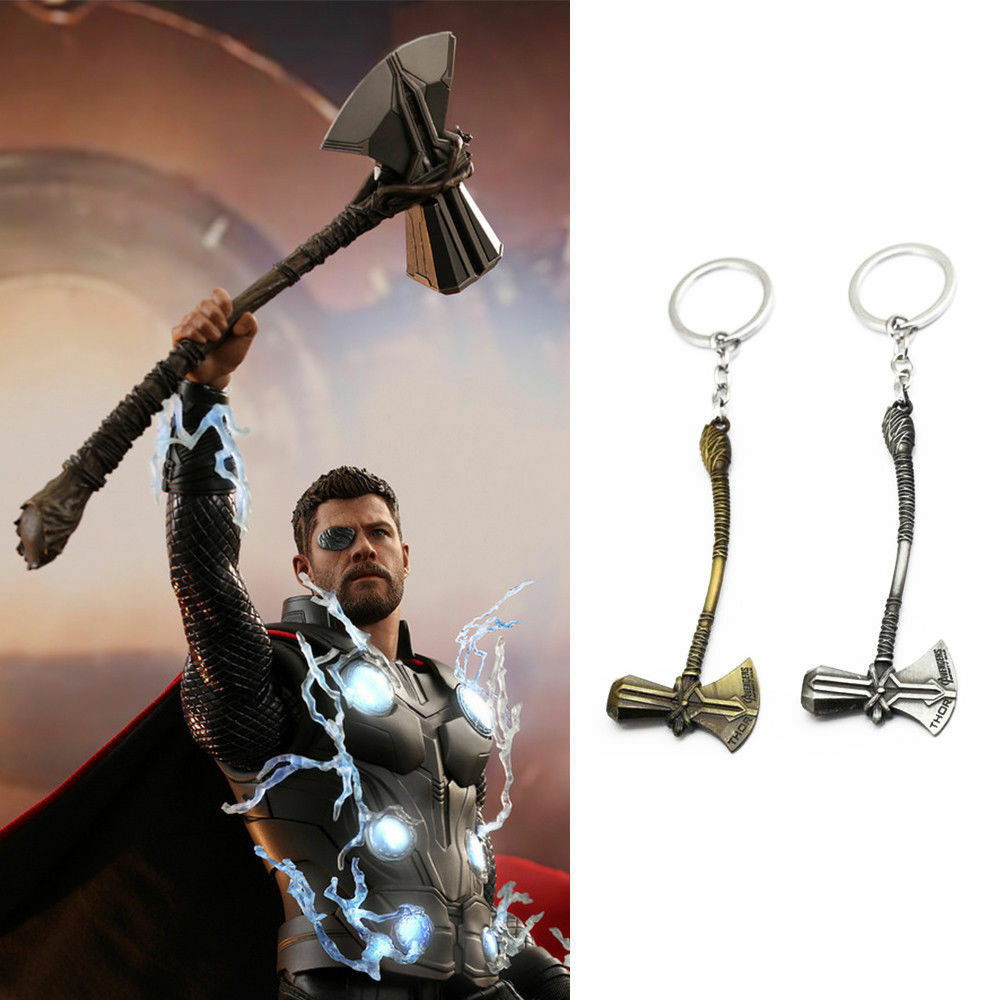THOR Hammer: (17, 42, 524, 555), (790, 407, 957, 741), (606, 427, 768, 749)
